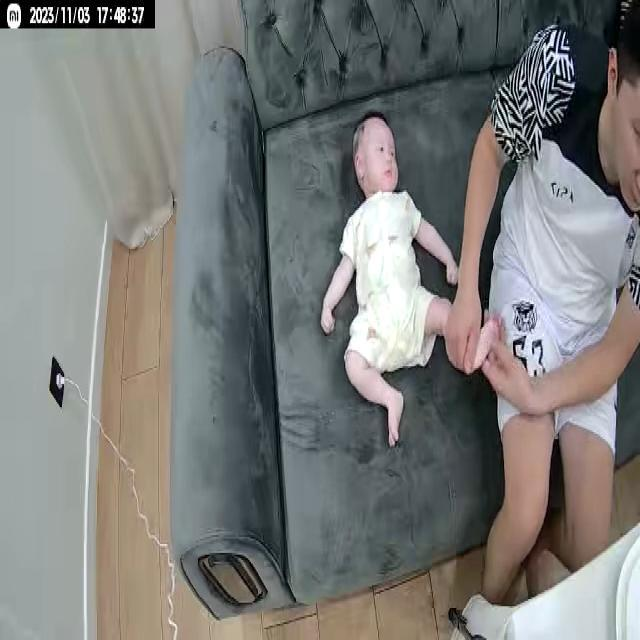baby: (318, 112, 500, 447)
